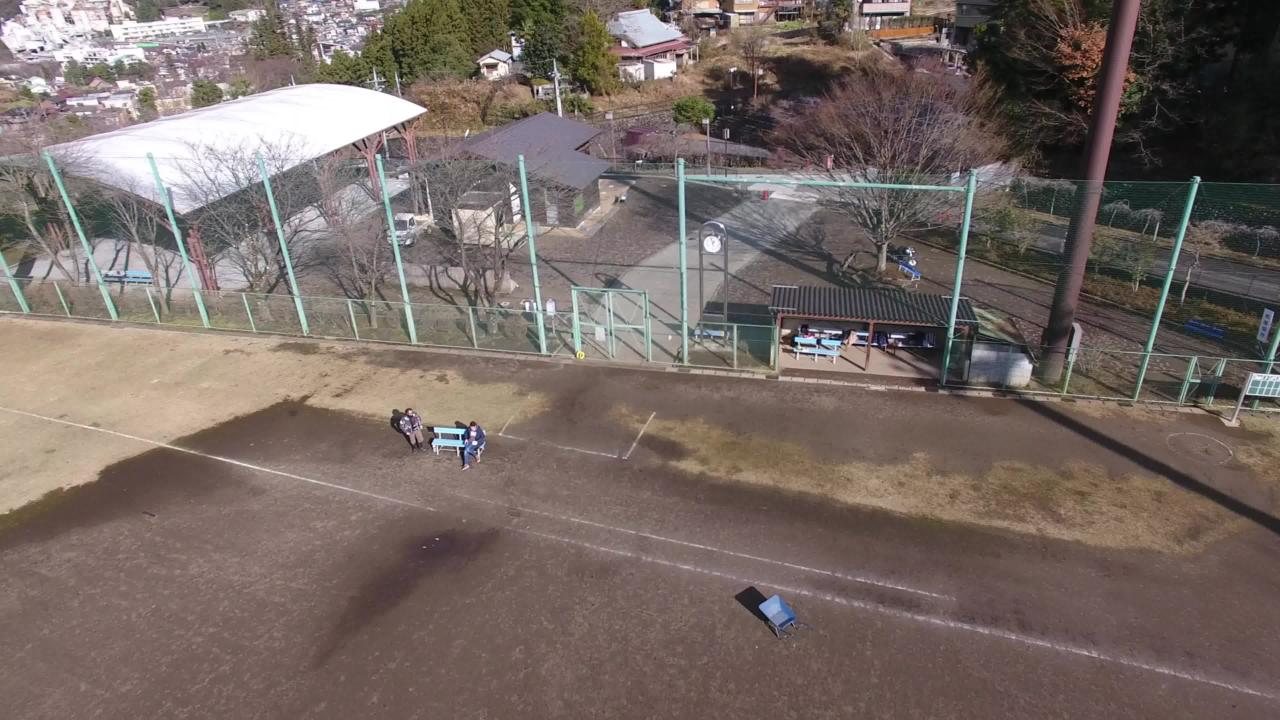bench: (800, 337, 841, 362)
car: (386, 204, 433, 248)
person: (390, 404, 427, 460), (461, 421, 484, 474)
trolley: (754, 594, 804, 645)
